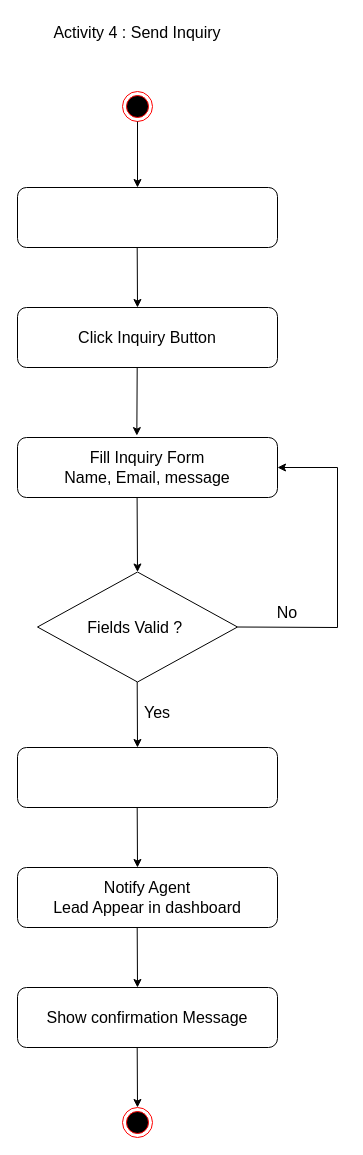
Image size: 363x1155. Some labels were removed from this diagram. Each missing label, with the centre of its shape:
"Save to DS4 : Inquiries Store in Database" goes at pixel 147 777.
"View Property Details Guest / User" goes at pixel 147 217.
